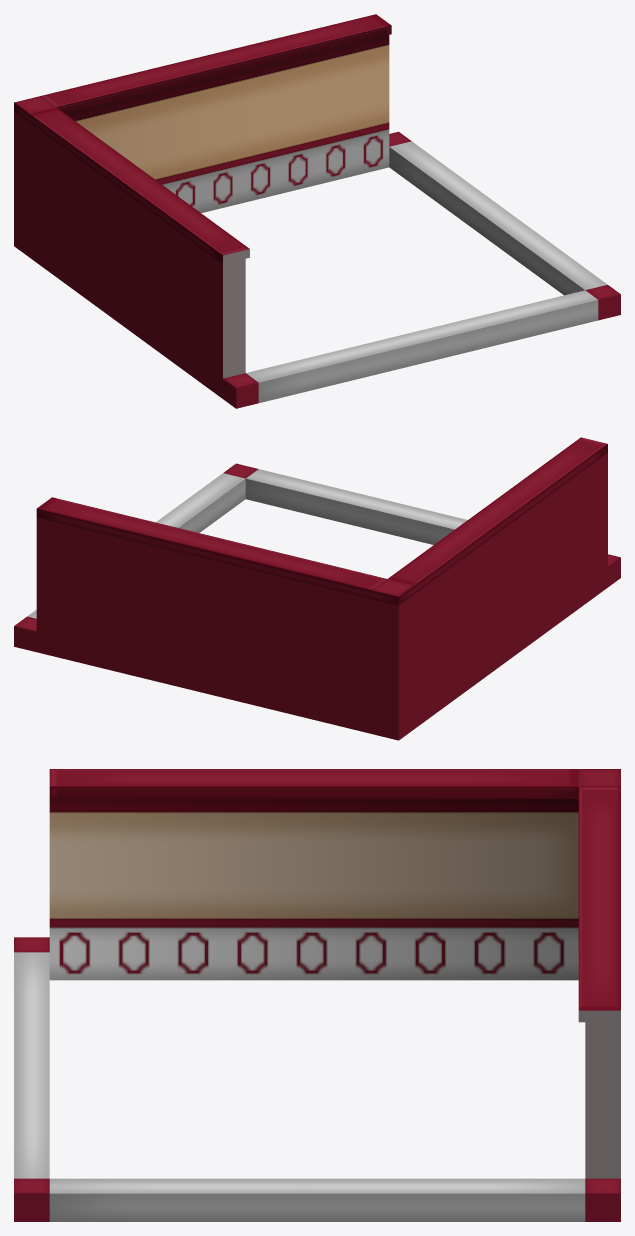
File: Wall_2.FBX
3 views of the same model, one above another, from view 1: azimuth 30°, elevation 25°; view 2: azimuth 150°, elevation 25°; view 3: azimuth 270°, elevation 25° (orthographic). The views are drawn at different scales.
Parts seen in each view (by area): view 1: wall; view 2: wall; view 3: wall.
Boxes of the visible parts, <box> form: wall: <box>14,14,620,408</box>; wall: <box>14,437,620,740</box>; wall: <box>14,769,620,1221</box>.
Bounding box in the file's own units: 0.0017 × 0.000607 × 0.0017.
